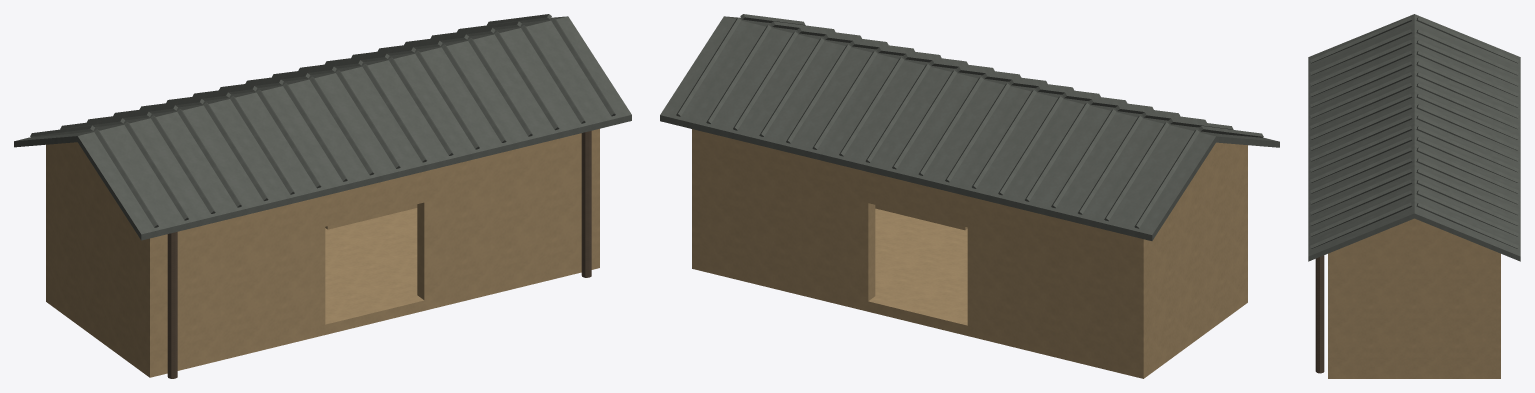
3 views of the same model, side by side, from view 1: azimuth 30°, elevation 25°; view 2: azimuth 150°, elevation 25°; view 3: azimuth 270°, elevation 25° (orthographic). The views are drawn at different scales.
Visible parts, largest first — view 1: layout__LY_P01_earth__PBR, layout__LY_P01_tile__PBR, layout__LY_P01_timber__PBR; view 2: layout__LY_P01_earth__PBR, layout__LY_P01_tile__PBR; view 3: layout__LY_P01_tile__PBR, layout__LY_P01_earth__PBR, layout__LY_P01_timber__PBR.
Part boxes in pixels (bbox=[...]): layout__LY_P01_earth__PBR: bbox=[46, 128, 599, 377]; layout__LY_P01_tile__PBR: bbox=[14, 14, 631, 240]; layout__LY_P01_timber__PBR: bbox=[167, 131, 591, 378]; layout__LY_P01_earth__PBR: bbox=[692, 129, 1247, 378]; layout__LY_P01_tile__PBR: bbox=[660, 14, 1279, 240]; layout__LY_P01_tile__PBR: bbox=[1308, 14, 1520, 261]; layout__LY_P01_earth__PBR: bbox=[1328, 218, 1500, 378]; layout__LY_P01_timber__PBR: bbox=[1315, 255, 1324, 373].
Bounding box in the file's own units: 10.9 × 4.53 × 4.9.
Materials: 3 (3 with a texture image).
